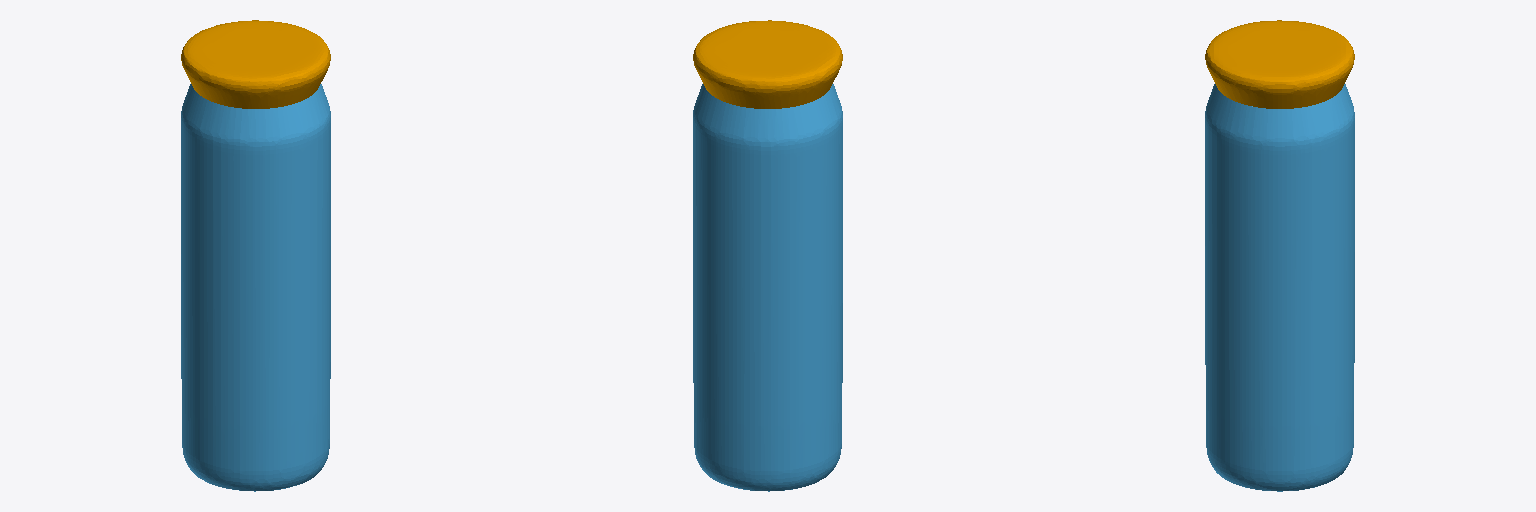
robot.urdf — root:
<?xml version='1.0' encoding='UTF-8'?>
<robot name="root">
  <link name="link_convex_piece_000.obj">
    <inertial>
      <origin xyz="0 0 0" rpy="0 0 0"/>
    </inertial>
    <visual>
      <origin xyz="0 0 0" rpy="0 0 0"/>
      <geometry>
        <mesh filename="meshes/convex_piece_000.obj" scale="1.0 1.0 1.0"/>
      </geometry>
    </visual>
    <collision>
      <origin xyz="0 0 0" rpy="0 0 0"/>
      <geometry>
        <mesh filename="meshes/convex_piece_000.obj" scale="1.0 1.0 1.0"/>
      </geometry>
    </collision>
  </link>
  <link name="link_convex_piece_001.obj">
    <inertial>
      <origin xyz="0 0 0" rpy="0 0 0"/>
    </inertial>
    <visual>
      <origin xyz="0 0 0" rpy="0 0 0"/>
      <geometry>
        <mesh filename="meshes/convex_piece_001.obj" scale="1.0 1.0 1.0"/>
      </geometry>
    </visual>
    <collision>
      <origin xyz="0 0 0" rpy="0 0 0"/>
      <geometry>
        <mesh filename="meshes/convex_piece_001.obj" scale="1.0 1.0 1.0"/>
      </geometry>
    </collision>
  </link>
  <joint name="link_convex_piece_001.obj_joint" type="fixed">
    <origin xyz="0 0 0" rpy="0 0 0"/>
    <parent link="link_convex_piece_000.obj"/>
    <child link="link_convex_piece_001.obj"/>
  </joint>
</robot>

--- What the picture shows (computed from the rendered views, not written in the file) ---
The picture shows the robot from 3 angles, left to right: view 1: azimuth 30°, elevation 25°; view 2: azimuth 150°, elevation 25°; view 3: azimuth 270°, elevation 25°; orthographic projection.
Robot: root — 2 links, 1 joints (1 fixed); root link link_convex_piece_000.obj; default pose: every joint at zero.
Visible links, largest first — view 1: link_convex_piece_001.obj, link_convex_piece_000.obj; view 2: link_convex_piece_001.obj, link_convex_piece_000.obj; view 3: link_convex_piece_001.obj, link_convex_piece_000.obj.
Link boxes in pixels (<box>): link_convex_piece_001.obj: <box>181,84,330,491</box>; link_convex_piece_000.obj: <box>181,20,330,108</box>; link_convex_piece_001.obj: <box>693,84,842,491</box>; link_convex_piece_000.obj: <box>693,20,842,108</box>; link_convex_piece_001.obj: <box>1205,84,1354,491</box>; link_convex_piece_000.obj: <box>1205,20,1354,108</box>.
Bounding box of the posed robot: 0.0826 × 0.0827 × 0.2527 m (x, y, z).
Meshes: 2 distinct files referenced, 2 mesh visuals loaded (2 OBJ).
